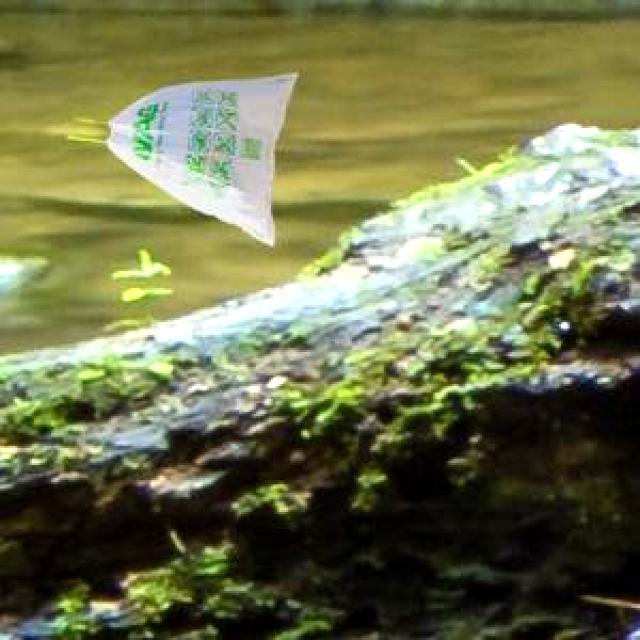Plastic_Bag: (66, 71, 292, 242)
